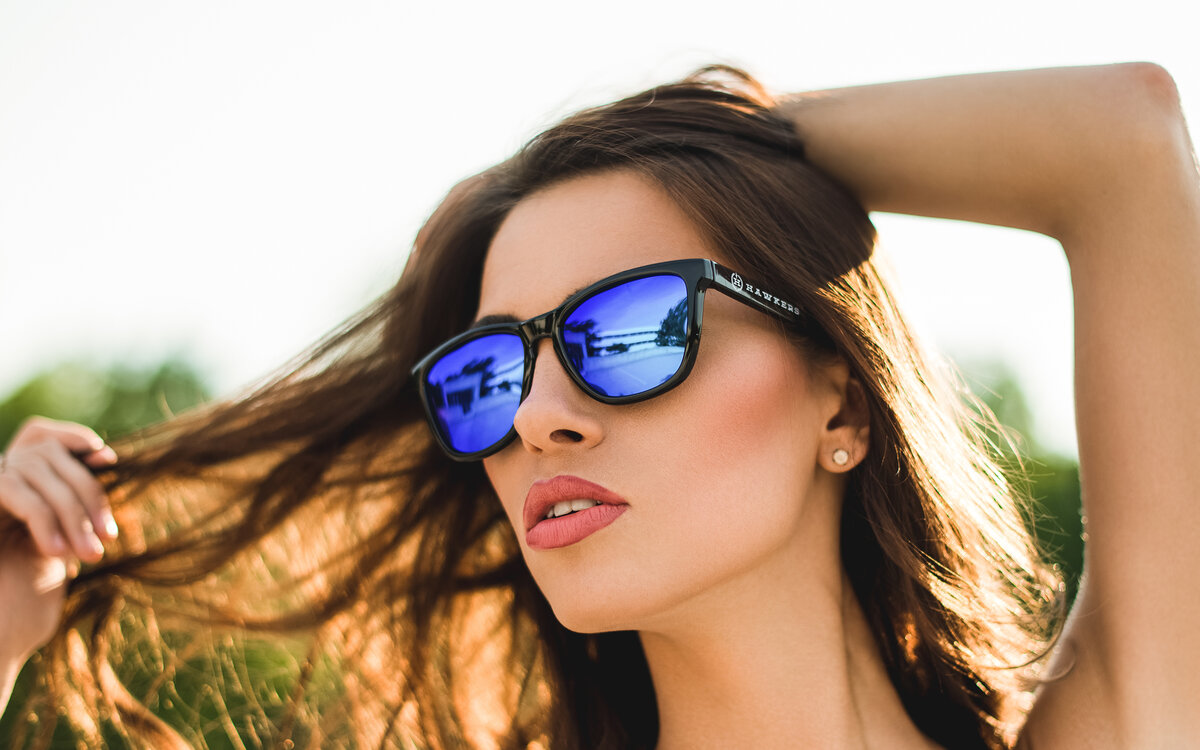glasses: (396, 249, 737, 474)
